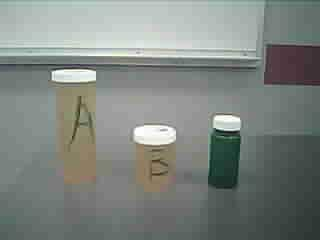Bottle A: (50, 65, 102, 191)
Bottle B: (133, 122, 180, 194)
Bottle C: (207, 109, 245, 198)
